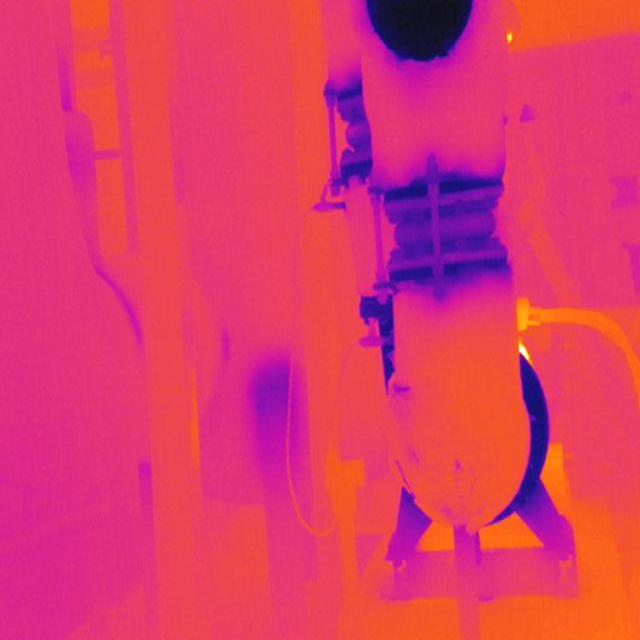leakage: (391, 381, 417, 400)
